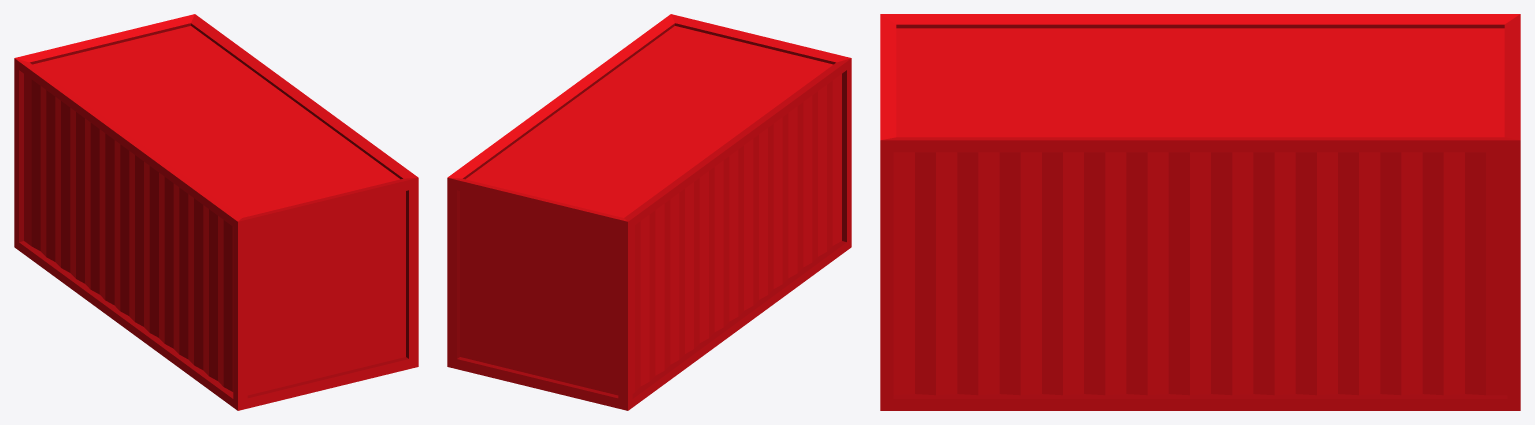
Rendered from containerCLOSED.fbx.
3 views of the same model, side by side, from view 1: azimuth 30°, elevation 25°; view 2: azimuth 150°, elevation 25°; view 3: azimuth 270°, elevation 25° (orthographic). The views are drawn at different scales.
Visible parts, largest first — view 1: Container; view 2: Container; view 3: Container.
Part boxes in pixels (bbox=[...]): Container: bbox=[14, 14, 418, 410]; Container: bbox=[447, 14, 851, 410]; Container: bbox=[880, 14, 1520, 410].
Bounding box in the file's own units: 7 × 7 × 15.
